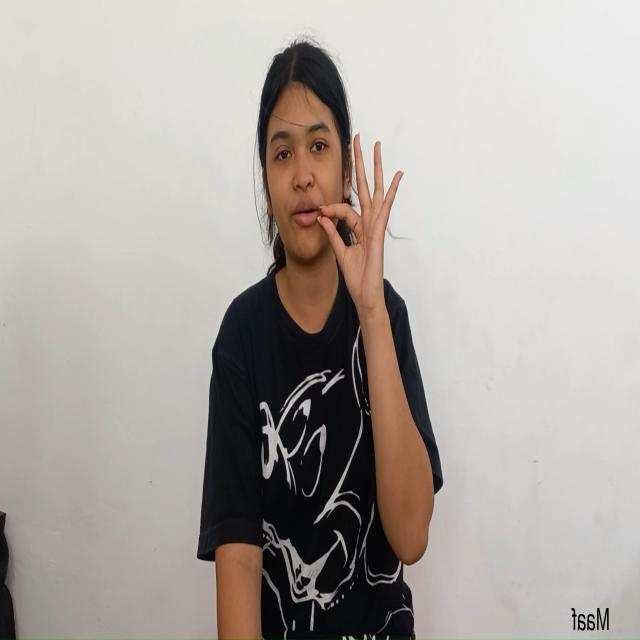Maaf -BISINDO-: (251, 32, 404, 350)
